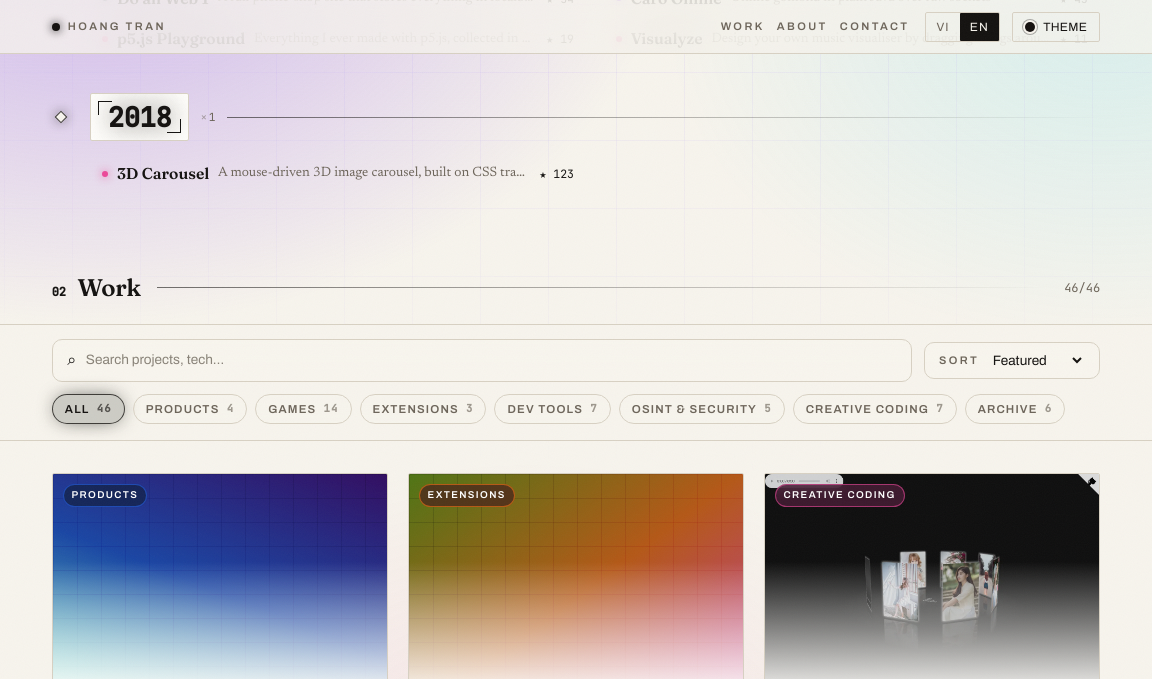
Test: Arcade › không tìm thấy gì thì nói rõ chứ không để màn trắng
The image size is (1152, 679).
(page scrolled)
Type "zzzzkhongcogi" into the search field at [491, 361], box 86,350 -> 896,371
(page scrolled)
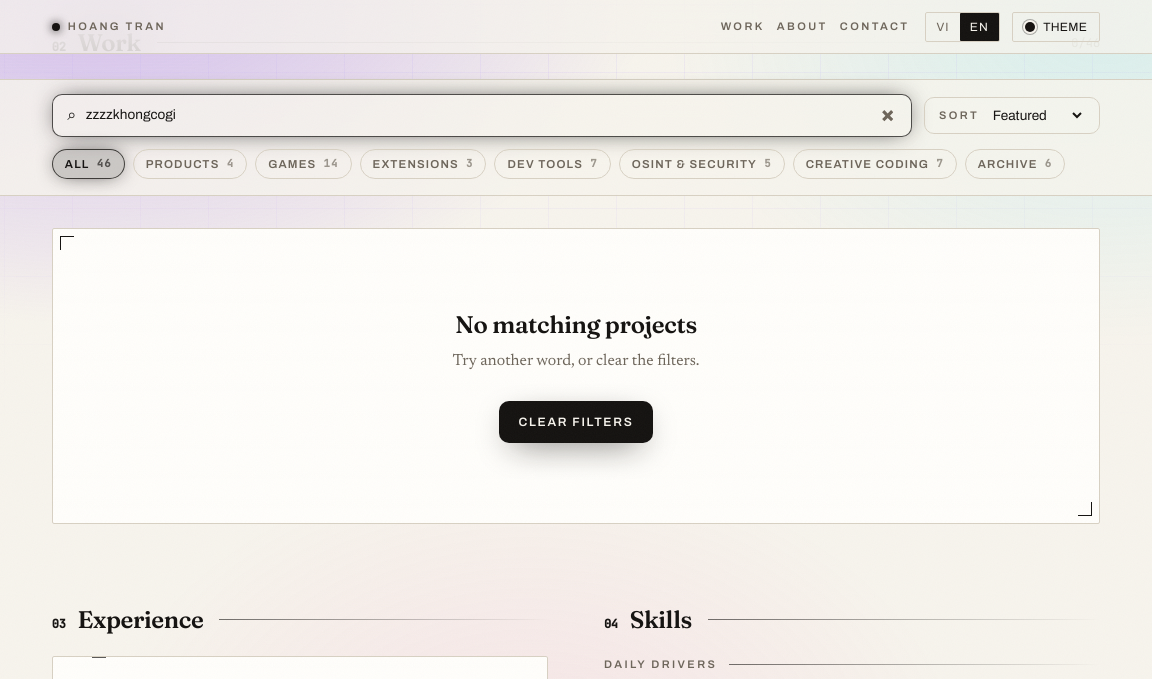
Now the text "No matching projects" is shown, box 455,309 -> 697,341
Now the text "Try another word, or clear the filters." is shown, box 453,349 -> 700,373
